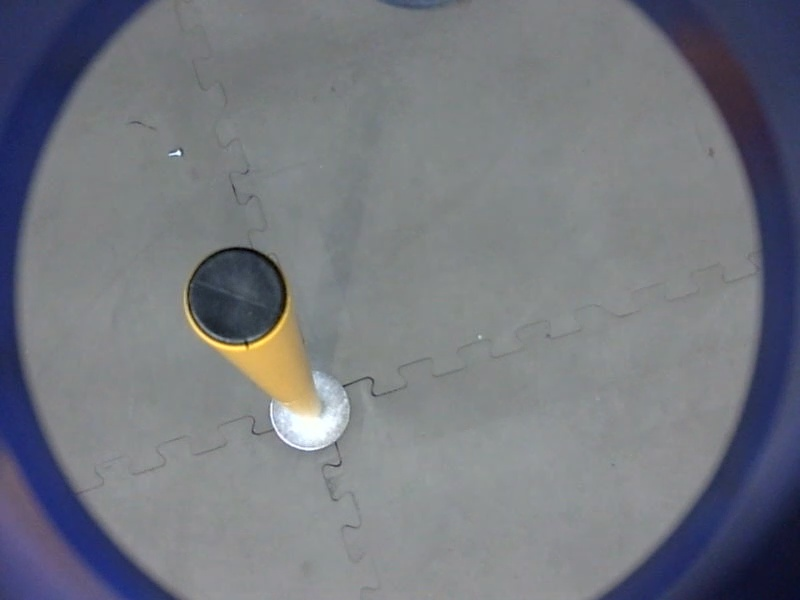tip: (177, 243, 295, 356)
